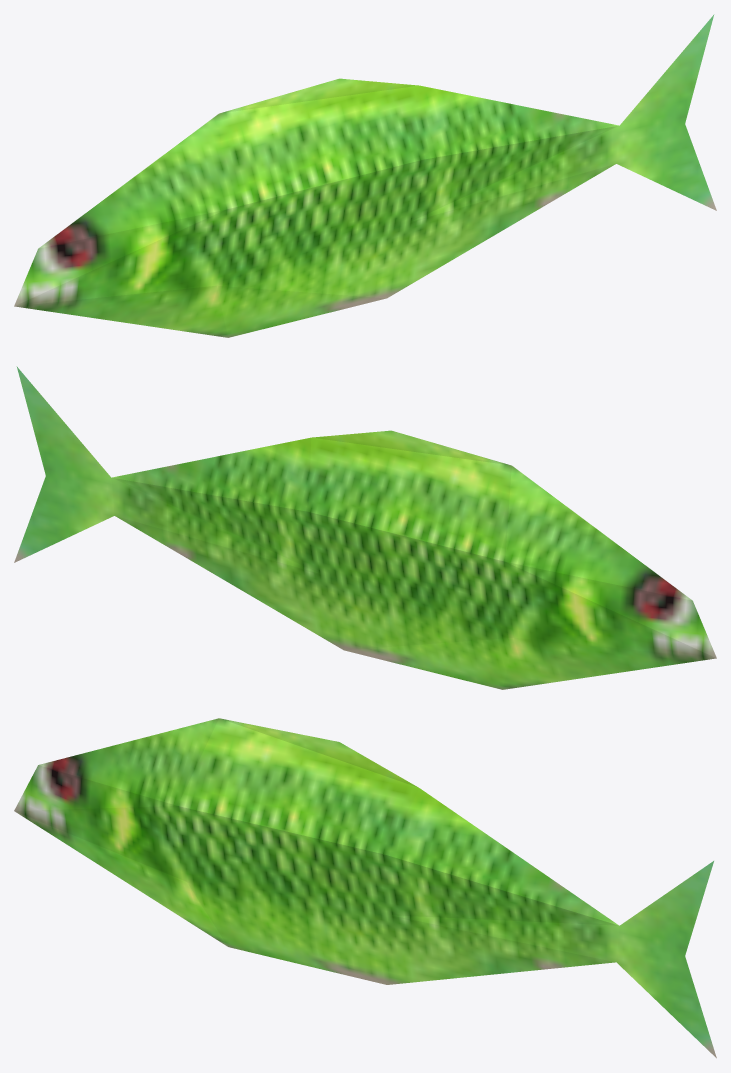
Rendered from fish2.glb.
3 renders of one model, top to bottom at view 1: azimuth 30°, elevation 25°; view 2: azimuth 150°, elevation 25°; view 3: azimuth 330°, elevation 25°, orthographic.
Parts seen in each view (by area): view 1: fish2; view 2: fish2; view 3: fish2.
Boxes of the visible parts, left/top/right/bottom form: fish2: left=14, top=14, right=716, bottom=337; fish2: left=14, top=366, right=716, bottom=689; fish2: left=14, top=718, right=716, bottom=1058.
Bounding box in the file's own units: 83.12 × 26.23 × 9.88.
1 material, 1 textured.
